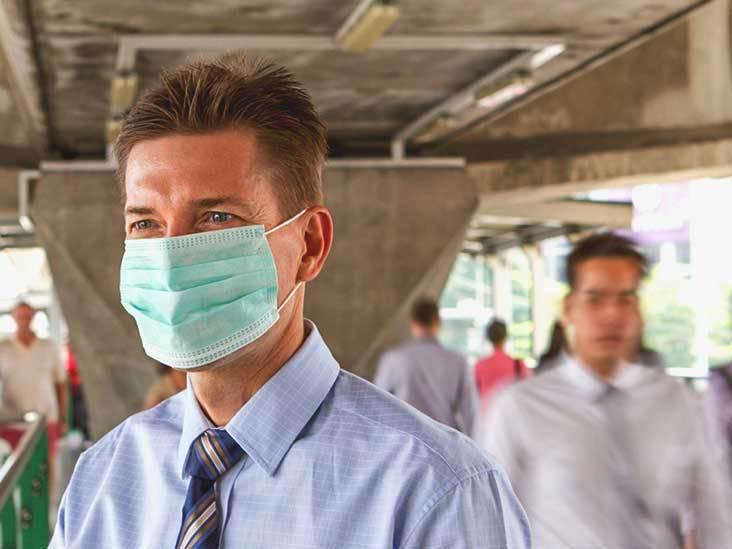mask: (121, 222, 276, 367)
